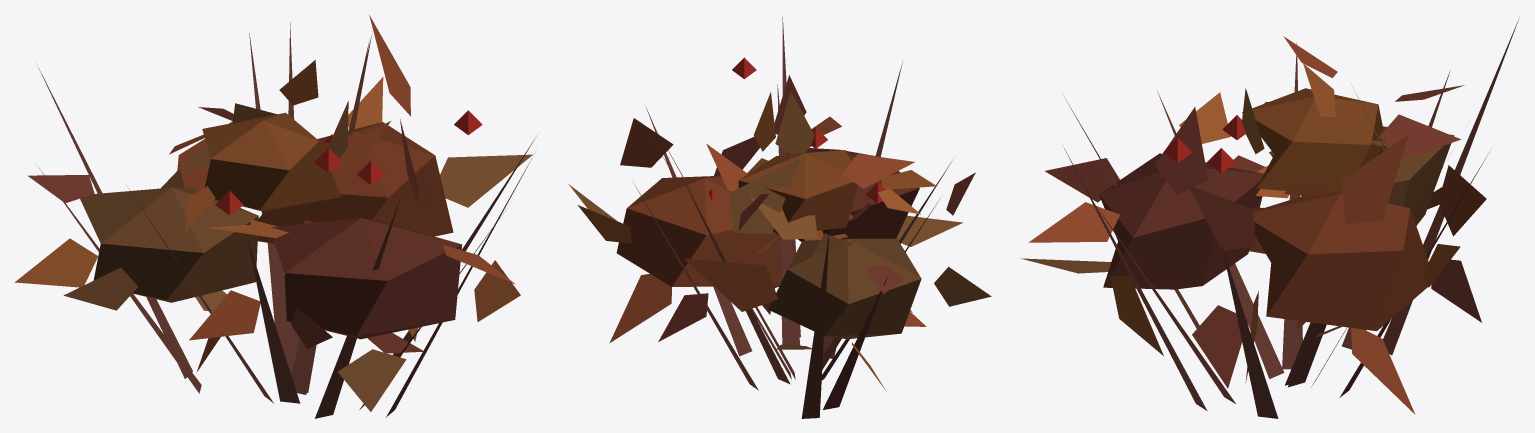
Rendered from wild-rose-high.glb.
3 views of the same model, side by side, from view 1: azimuth 30°, elevation 25°; view 2: azimuth 150°, elevation 25°; view 3: azimuth 270°, elevation 25° (orthographic). The views are drawn at different scales.
Visible parts, largest first — view 1: wild-rose-high / foliage, wild-rose-high / wood; view 2: wild-rose-high / foliage, wild-rose-high / wood; view 3: wild-rose-high / foliage, wild-rose-high / wood.
Boxes of the visible parts, left/top/right/bottom form: wild-rose-high / foliage: left=14, top=15, right=532, bottom=411; wild-rose-high / wood: left=38, top=22, right=536, bottom=418; wild-rose-high / foliage: left=568, top=57, right=991, bottom=391; wild-rose-high / wood: left=633, top=17, right=952, bottom=418; wild-rose-high / foliage: left=1020, top=36, right=1486, bottom=414; wild-rose-high / wood: left=1062, top=17, right=1519, bottom=418.
Bounding box in the file's own units: 1.16 × 0.752 × 1.03.
